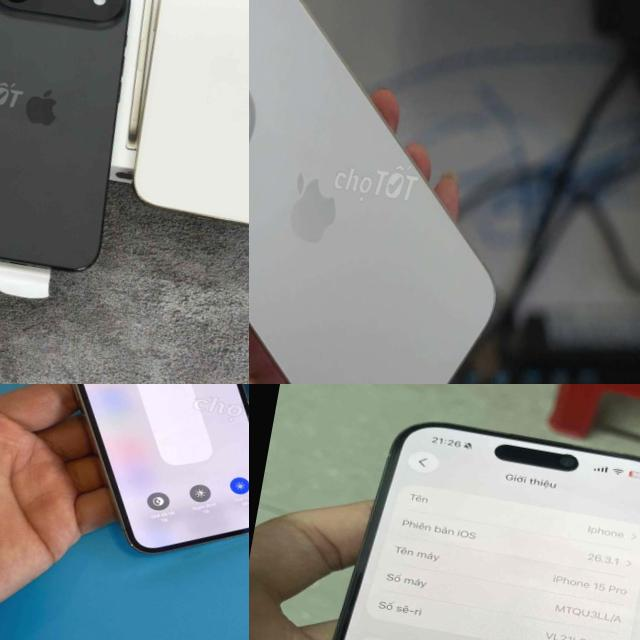gen_12_13: (0, 384, 249, 580)
gen_15: (249, 0, 556, 384), (254, 387, 640, 640)
gen_17: (0, 0, 153, 286), (112, 0, 249, 242)
